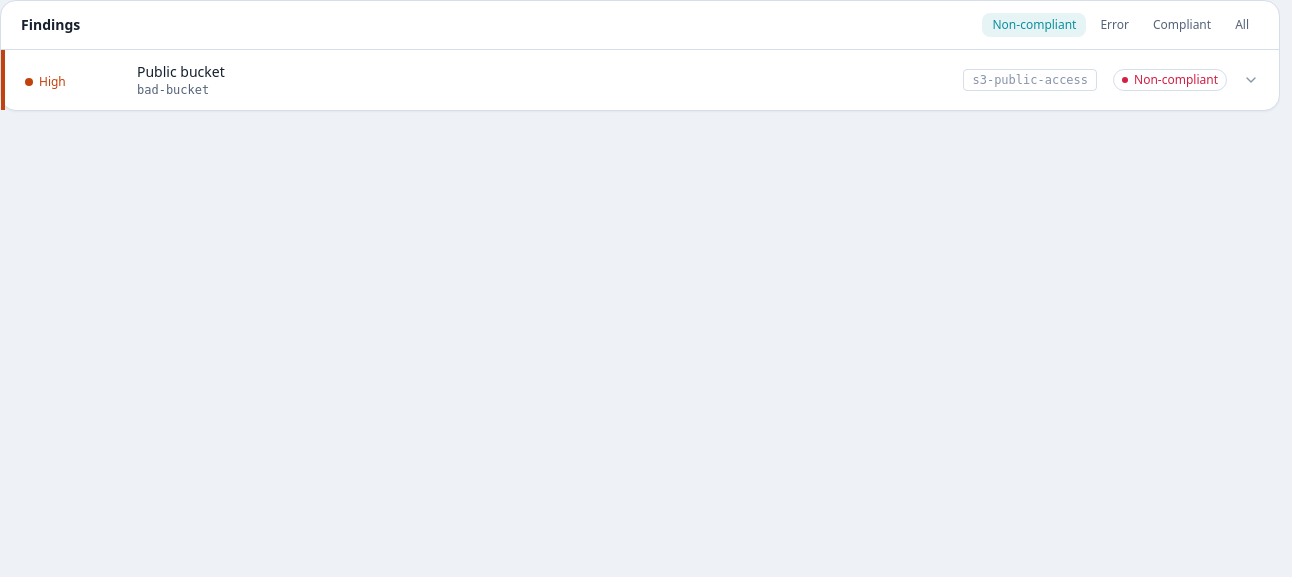
Test case: FindingsList › expands a row to reveal detail + evidence
expect the text "Block Public Access disabled" is not shown: met
Click the button "High Public bucket bad-bucket s3-public-access Non-compliant".
click(181, 72)  # box [5,50,1279,110]
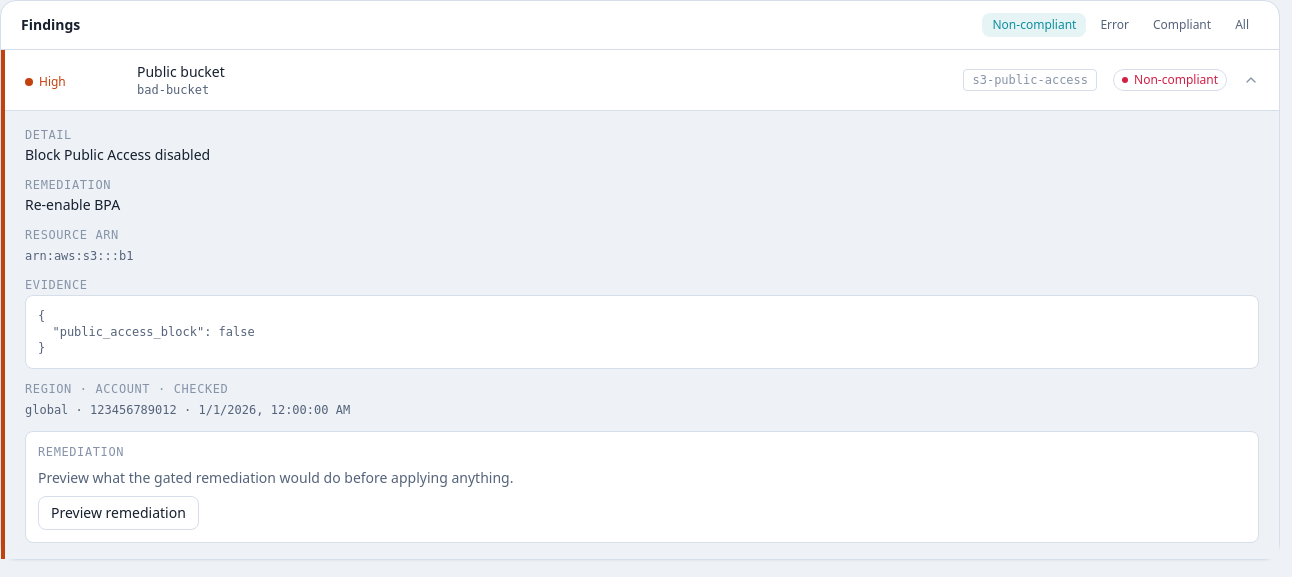
expect the text "Block Public Access disabled" is shown: met, box [25,145,210,164]
expect the text "{ \"public_access_block\": false }" is shown: met, box [25,295,1259,369]
